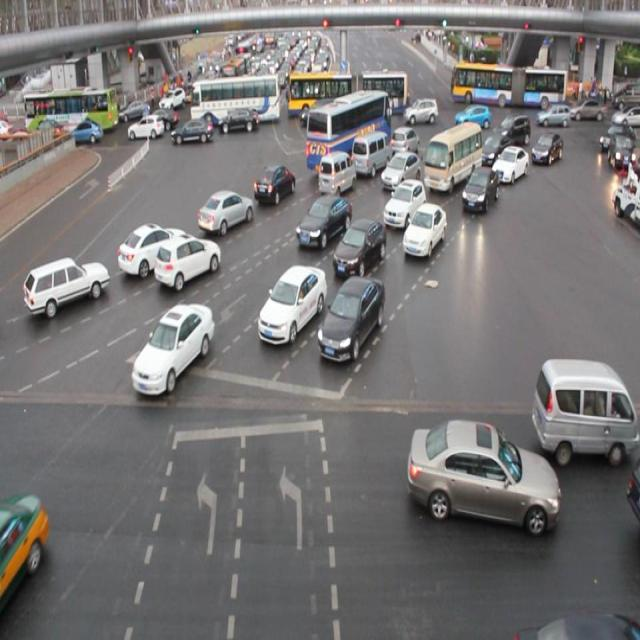car: (405, 414, 561, 535), (129, 300, 215, 398), (1, 486, 49, 622), (255, 263, 328, 345), (317, 277, 385, 363), (23, 255, 109, 319), (117, 221, 188, 278), (155, 230, 221, 288), (333, 218, 387, 277), (296, 196, 352, 246), (197, 187, 253, 236), (400, 204, 446, 257), (382, 176, 426, 231), (254, 163, 296, 204), (379, 153, 420, 194), (461, 166, 497, 211), (491, 143, 526, 184), (478, 133, 513, 168), (494, 112, 530, 146), (530, 129, 562, 165), (390, 125, 419, 161)
truck: (530, 357, 640, 467), (420, 126, 476, 192), (351, 131, 394, 177), (317, 152, 355, 198)
van: (306, 91, 392, 176)
